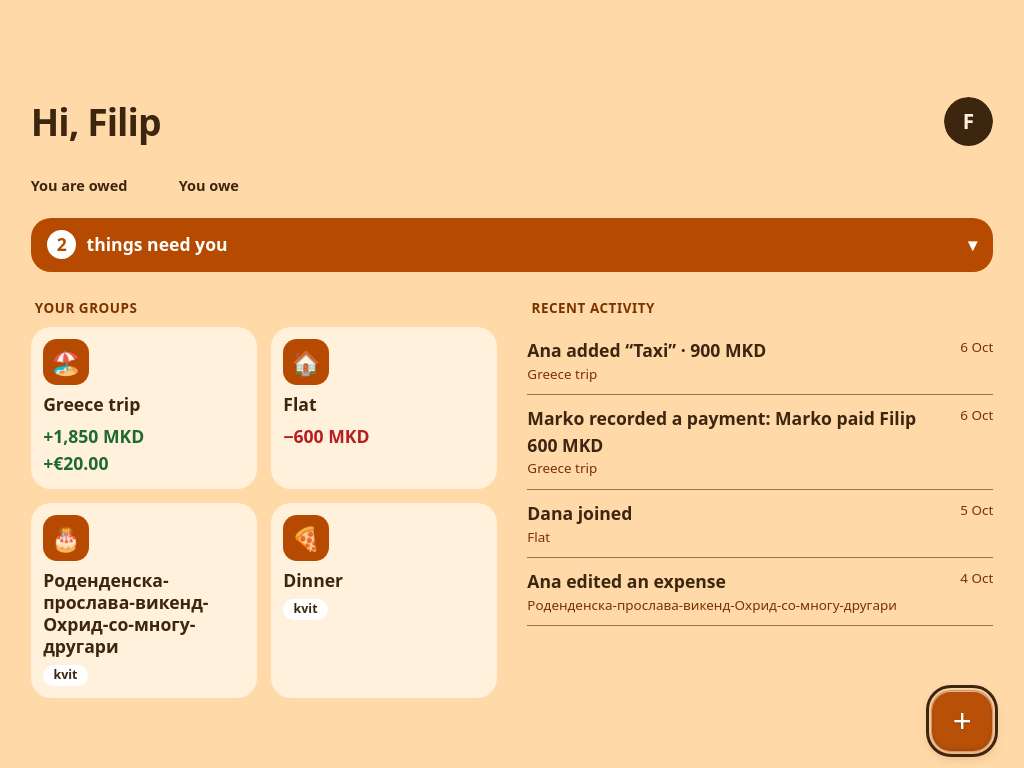
Test: personal spending from the home screen › puts the focus back on "+ New" in the open grid when the new category is cancelled with Escape
Click the button named "Add" at (962, 721), box [931,690,993,752]
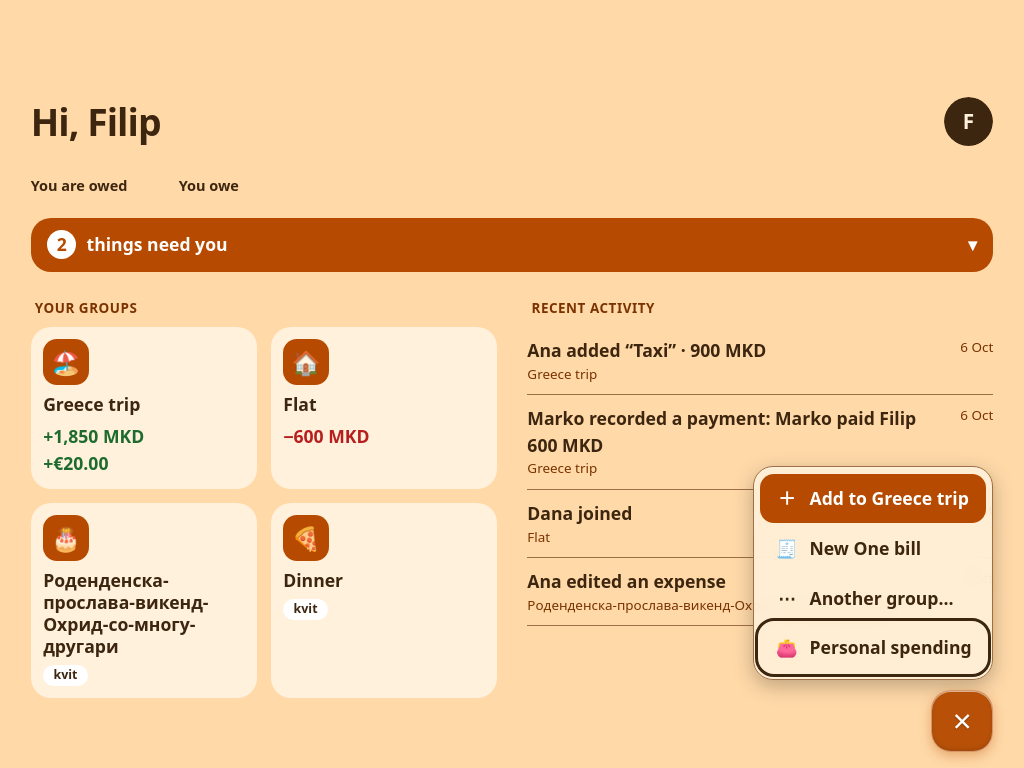
Click the menu item "👛 Personal spending" at (873, 648), box [760,623,986,672]
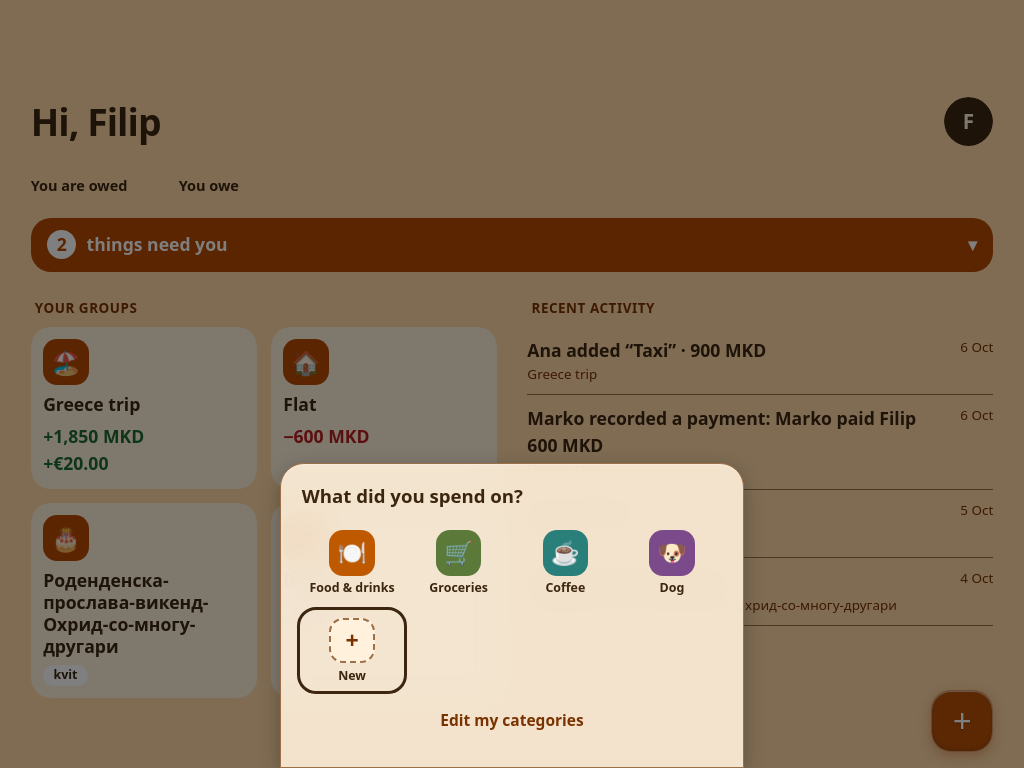
Click the button "+ New" at (352, 650), box [302,612,402,689]
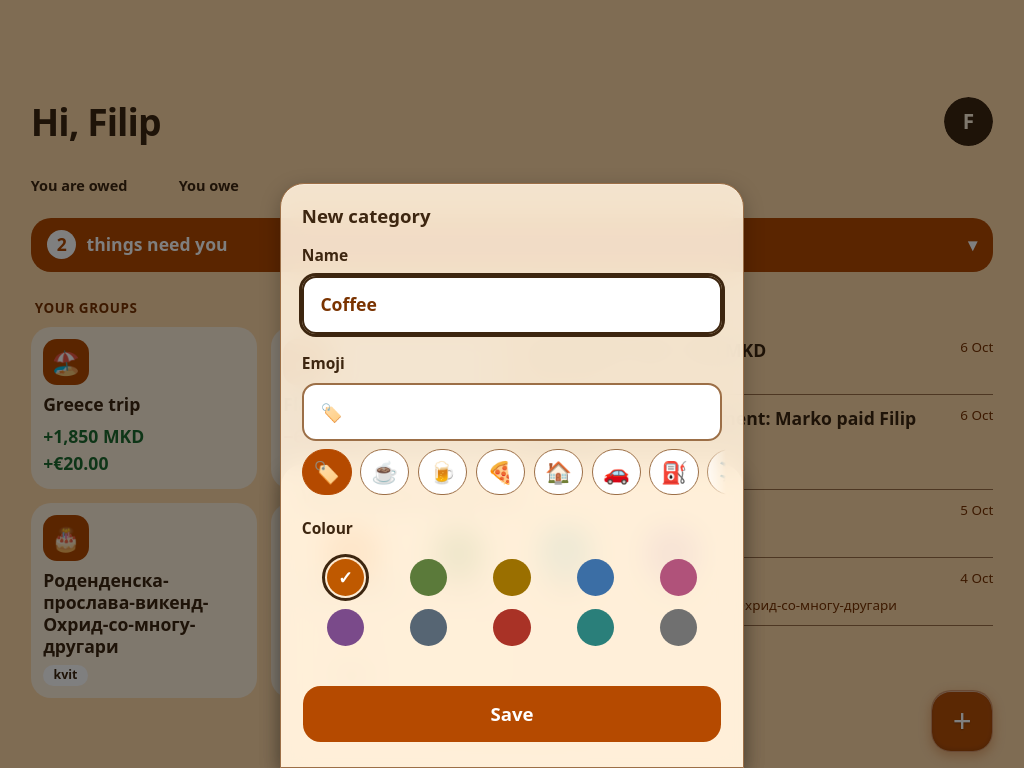
Press Escape in the dialog "New category", box [280,183,744,767]
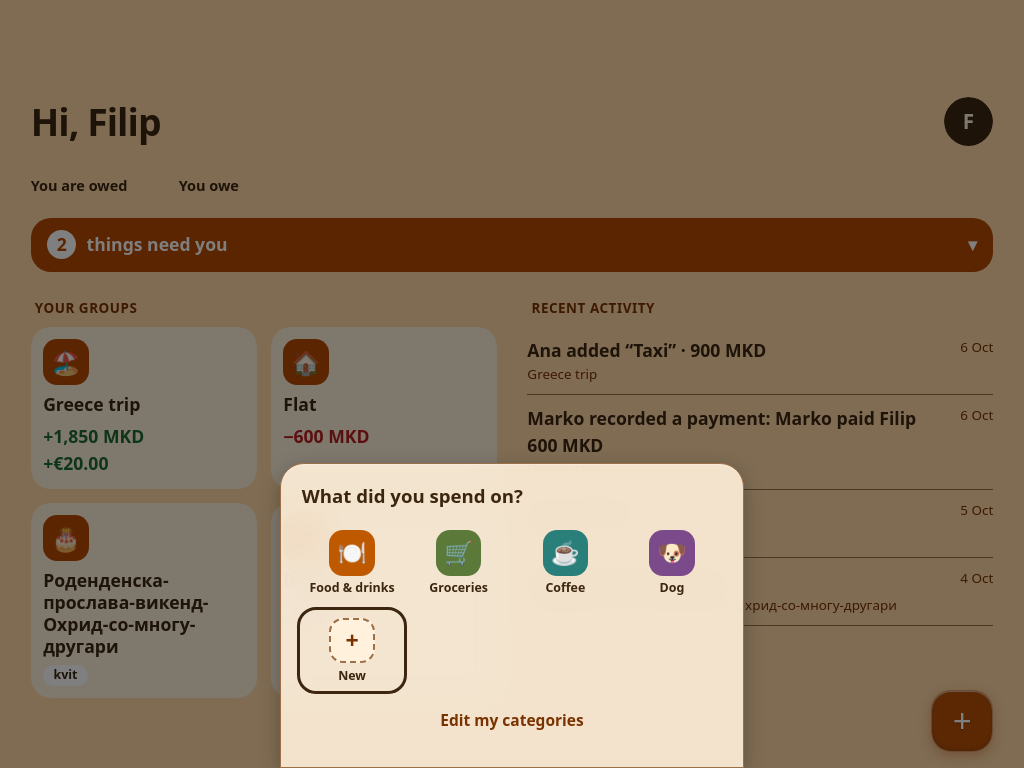
Check: the heading "New category" is gone
